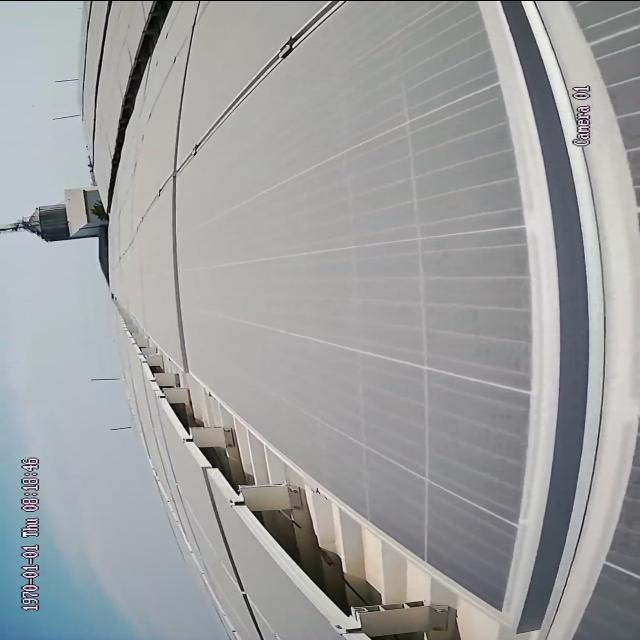interior panel: (480, 3, 640, 622), (176, 0, 348, 175)
outher panel: (125, 316, 544, 639), (108, 0, 177, 173)
